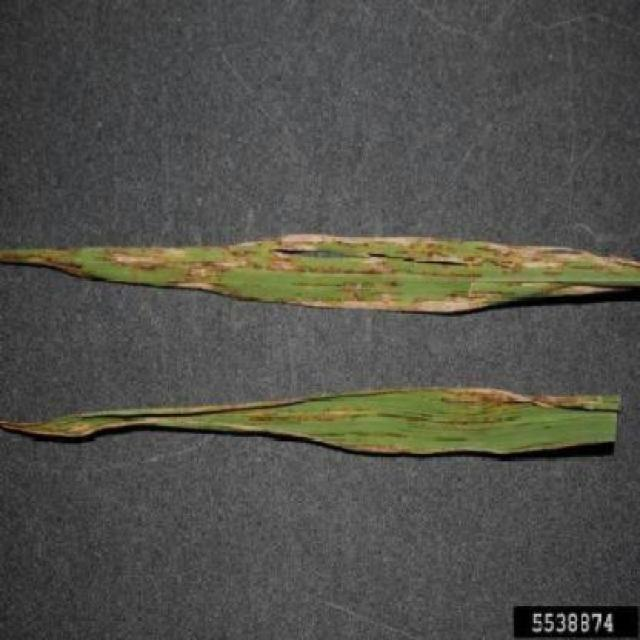Brown_Spot: (41, 219, 632, 313), (59, 368, 608, 426)
